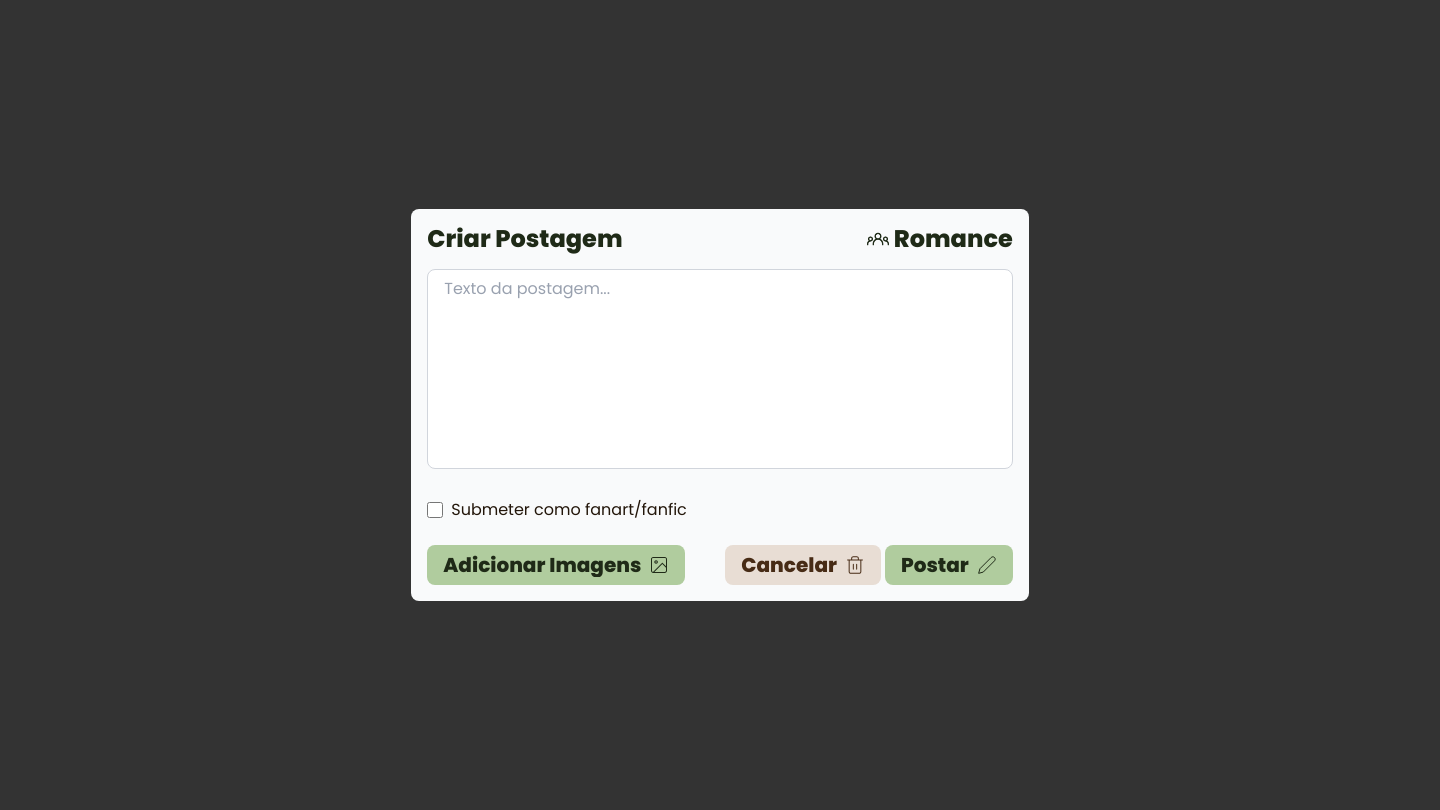
Test: CreatePostModal › Labels e Acessibilidade › deve mostrar label quando textarea está focado
Focus the text box with placeholder "Texto da postagem...": (720,369) [427,269,1013,469]
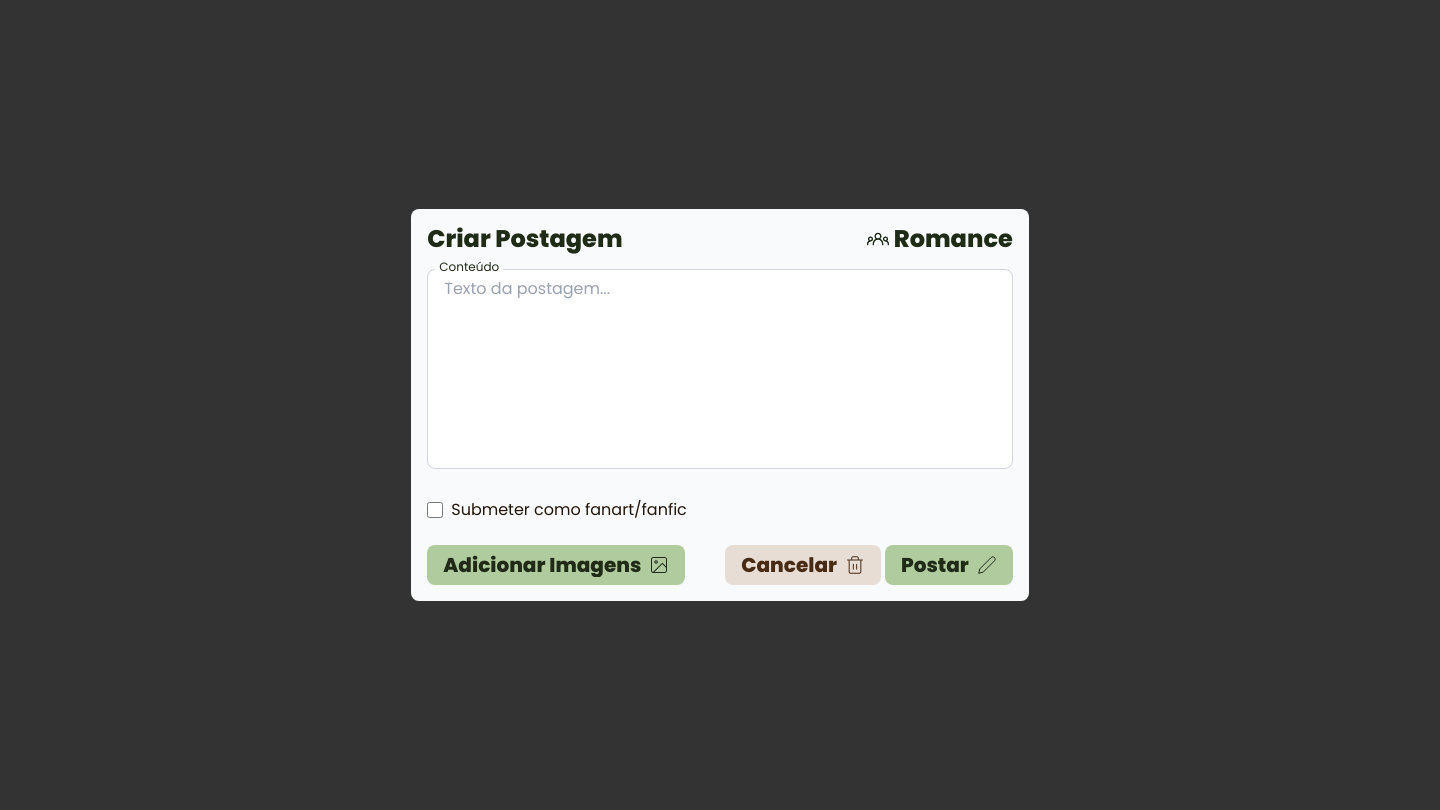
Check: the text "Conteúdo" is shown, box [435,259,503,275]
